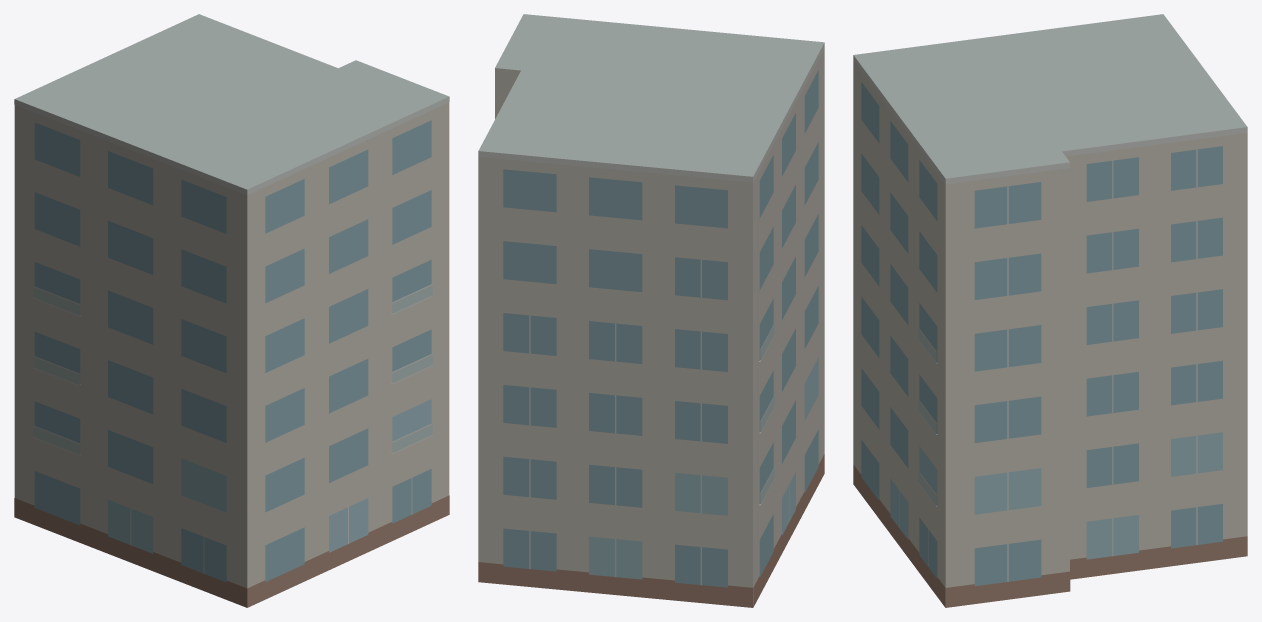
File: survey-upis-32807498.glb
The picture shows the model from 3 angles, left to right: view 1: azimuth 30°, elevation 25°; view 2: azimuth 150°, elevation 25°; view 3: azimuth 270°, elevation 25°; orthographic projection. The views are drawn at different scales.
Parts seen in each view (by area): view 1: survey-upis-32807498.tmp; view 2: survey-upis-32807498.tmp; view 3: survey-upis-32807498.tmp.
Boxes of the visible parts, x1,y1,x2,y2 form: survey-upis-32807498.tmp: (14, 14, 449, 607); survey-upis-32807498.tmp: (478, 14, 824, 607); survey-upis-32807498.tmp: (853, 14, 1247, 607).
Size of the model in its own units: 15.15 by 18.4 by 15.33.
